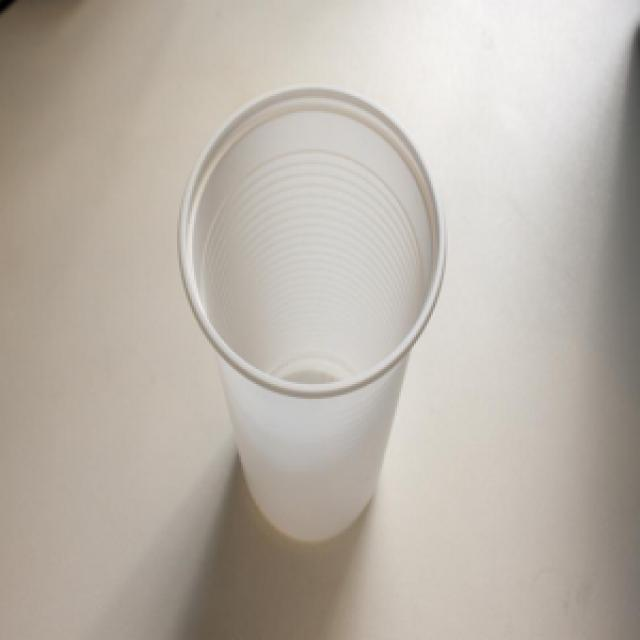plastic cup: (171, 83, 452, 544)
